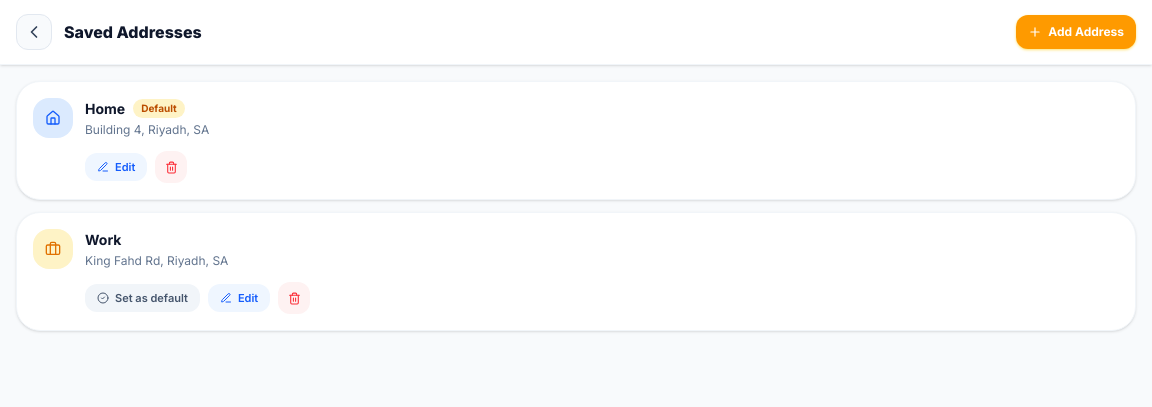
it: SavedAddressesPage › delete flow: surfaces friendly copy on 409 (cannot delete default while others exist)
Expected: the text "Home" is shown, top-left (85, 98), bottom-right (125, 119)
Click the button without text below "Building 4, Riyadh, SA".
click(171, 167)  # box top-left (155, 151), bottom-right (187, 183)
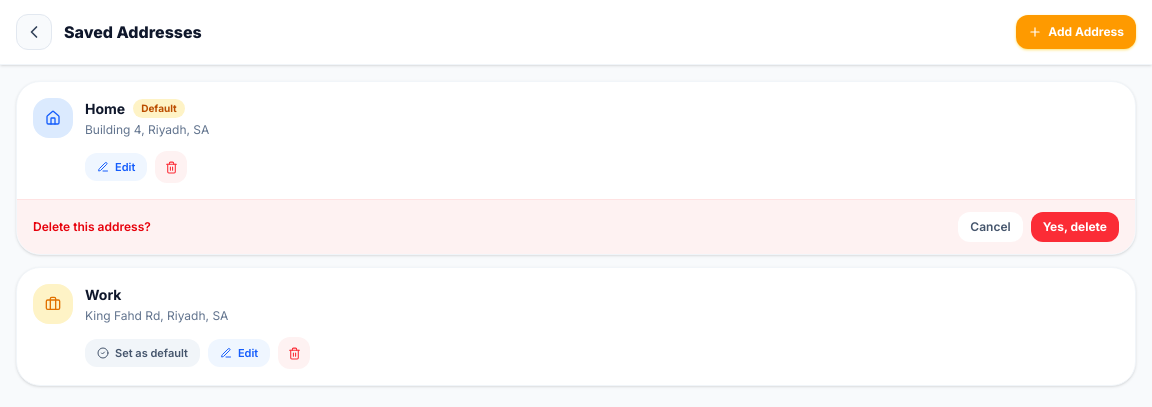
Result: the button "Yes, delete" is shown
Click the button "Yes, delete".
click(1075, 227)  # box top-left (1031, 212), bottom-right (1119, 242)
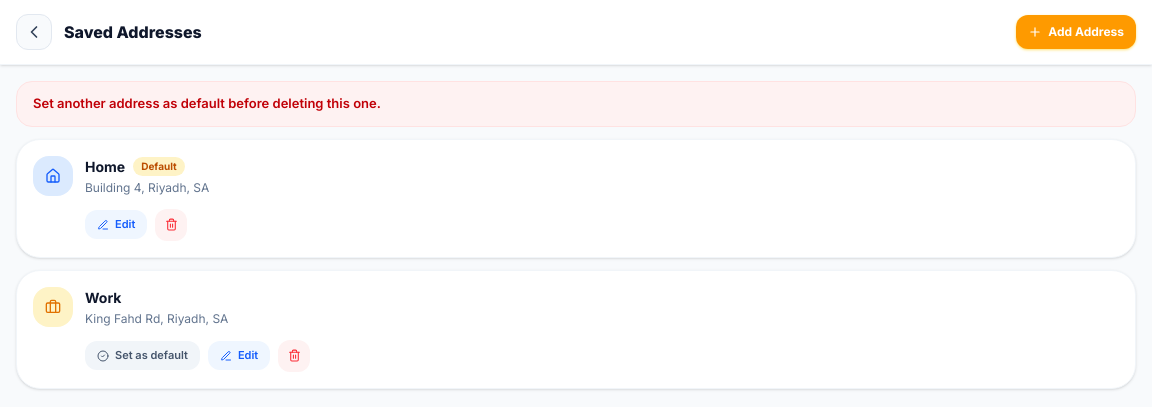
Result: the text "Set another address as default before deleting this one." is shown at top-left (16, 81), bottom-right (1136, 126)
